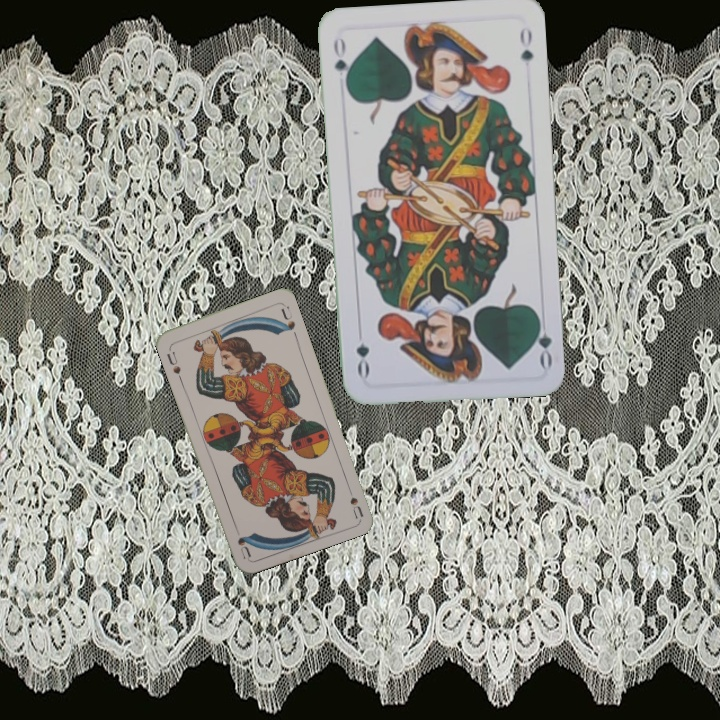GO: (529, 311, 555, 370), (330, 33, 353, 91)
SU: (343, 480, 365, 520), (162, 348, 183, 377)
